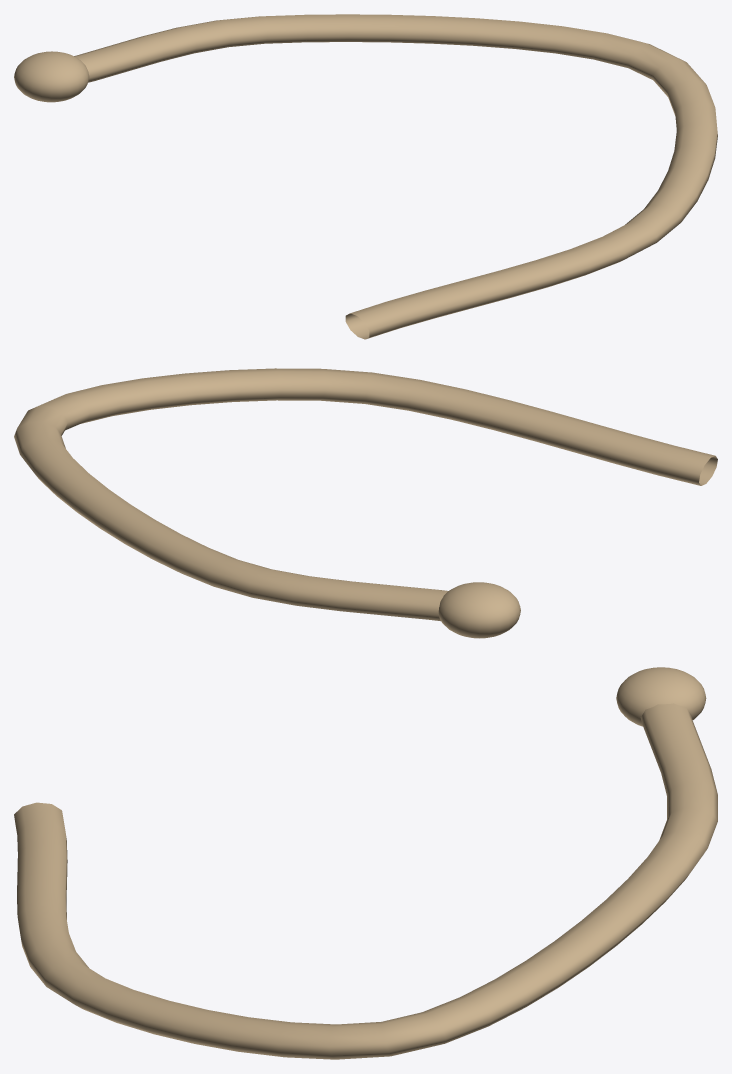
File: left_rib_9.glb
3 renders of one model, top to bottom at view 1: azimuth 30°, elevation 25°; view 2: azimuth 150°, elevation 25°; view 3: azimuth 270°, elevation 25°, orthographic. The views are drawn at different scales.
Visible parts, largest first — view 1: left_rib_9:costal-body, left_rib_9:head; view 2: left_rib_9:costal-body, left_rib_9:head; view 3: left_rib_9:costal-body, left_rib_9:head.
Part boxes in pixels (bbox=[...]): left_rib_9:costal-body: bbox=[74, 14, 717, 339]; left_rib_9:head: bbox=[14, 51, 89, 102]; left_rib_9:costal-body: bbox=[14, 368, 717, 621]; left_rib_9:head: bbox=[438, 582, 520, 638]; left_rib_9:costal-body: bbox=[14, 703, 717, 1059]; left_rib_9:head: bbox=[616, 667, 706, 726].
Bounding box in the file's own units: 0.9559 × 0.1728 × 0.864.
